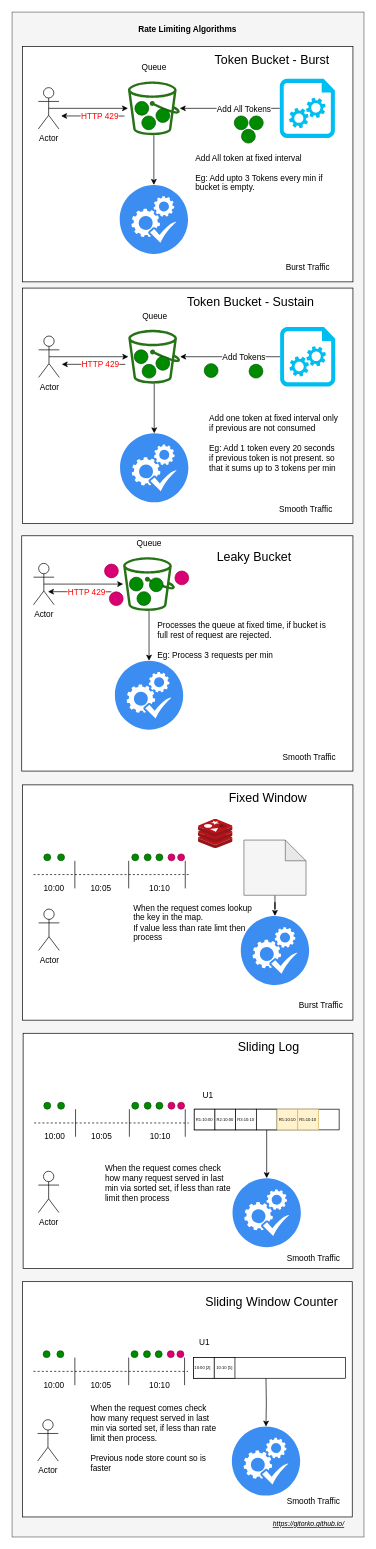
Some shapes in this 376 by 1549 pixel diagram are drawn without their labels. Each missing label, with the centre of its shape:
Key: Value U1_10:00 - 2 U1_10:05 - 5: the point at 274,867
R4:10:10: the point at 266,1119
